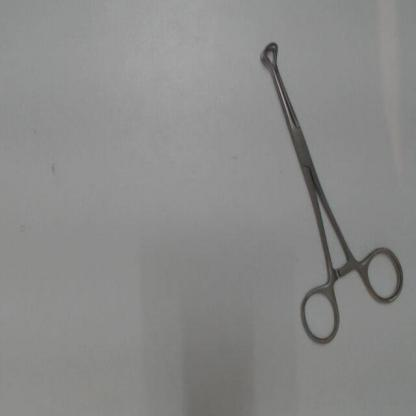Babcock Tissue Forceps: (257, 36, 413, 350)
